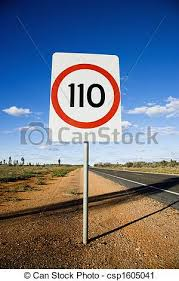Speed_limit_110km: (50, 64, 120, 129)
